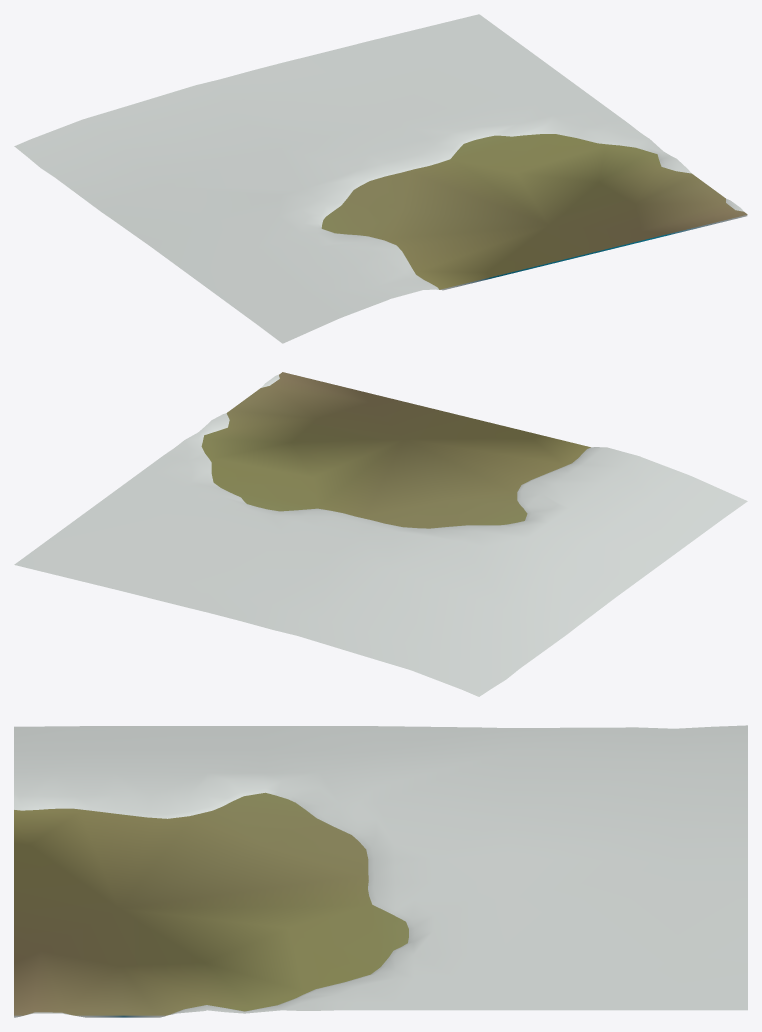
The picture shows the model from 3 angles, top to bottom: view 1: azimuth 30°, elevation 25°; view 2: azimuth 150°, elevation 25°; view 3: azimuth 270°, elevation 25°; orthographic projection. The views are drawn at different scales.
Parts seen in each view (by area): view 1: G:\FFXIV-MapTools\exports\r2f1\bg\ex1\01_roc_r2\fld\r2f1\bgp (×3); view 2: G:\FFXIV-MapTools\exports\r2f1\bg\ex1\01_roc_r2\fld\r2f1\bgp (×2); view 3: G:\FFXIV-MapTools\exports\r2f1\bg\ex1\01_roc_r2\fld\r2f1\bgp (×2).
Boxes of the visible parts, left/top/right/bottom form: G:\FFXIV-MapTools\exports\r2f1\bg\ex1\01_roc_r2\fld\r2f1\bgp (×3): left=14, top=14, right=747, bottom=343; G:\FFXIV-MapTools\exports\r2f1\bg\ex1\01_roc_r2\fld\r2f1\bgp (×2): left=14, top=372, right=747, bottom=696; G:\FFXIV-MapTools\exports\r2f1\bg\ex1\01_roc_r2\fld\r2f1\bgp (×2): left=14, top=725, right=747, bottom=1015.
Size of the model in its own units: 128 by 5.5 by 128.
